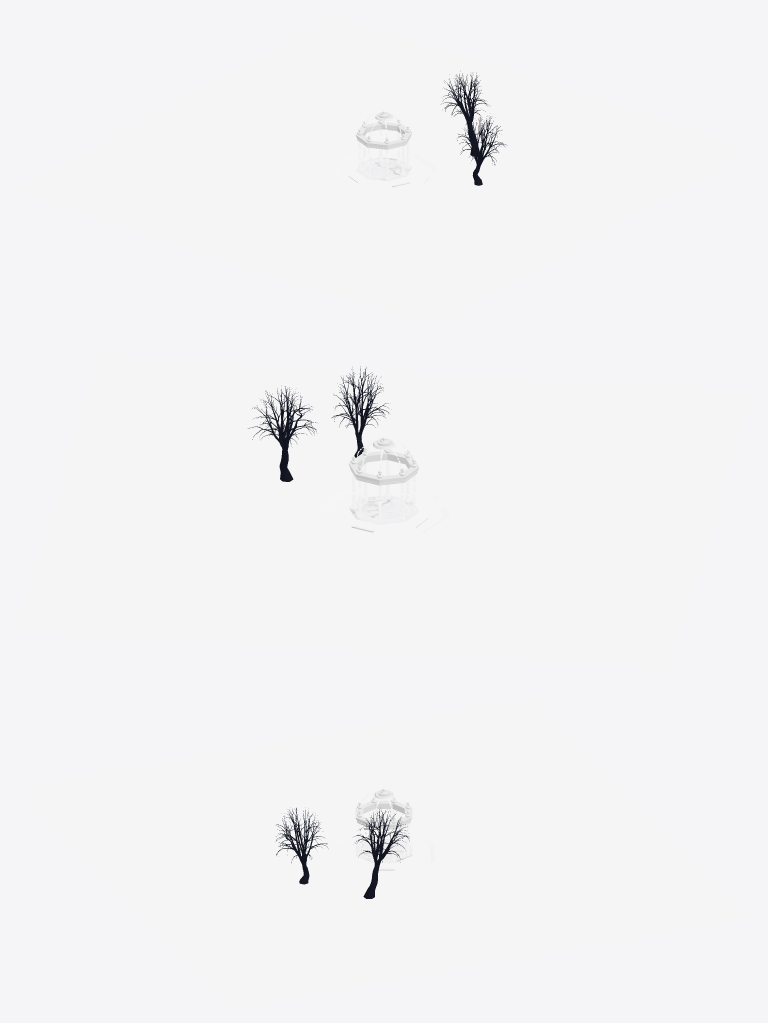
File: garden.glb
3 views of the same model, one above another, from view 1: azimuth 30°, elevation 25°; view 2: azimuth 150°, elevation 25°; view 3: azimuth 270°, elevation 25° (orthographic). The views are drawn at different scales.
Parts seen in each view (by area): view 1: 平面.005, 平面.002, tree.005, tree.003, 地基, 顶台, 柱子; view 2: 平面.005, 平面.002, tree.005, tree.003, 地基, 顶台, 柱子, 平面.007; view 3: 平面.005, 平面.002, tree.005, tree.003, 顶台, 地基, 平面.007.
Boxes of the visible parts, bbox=[...] form: 平面.005: bbox=[14, 14, 753, 326]; 平面.002: bbox=[331, 147, 435, 191]; tree.005: bbox=[442, 73, 489, 156]; tree.003: bbox=[457, 116, 505, 185]; 地基: bbox=[356, 157, 411, 180]; 顶台: bbox=[355, 122, 412, 149]; 柱子: bbox=[357, 129, 410, 179]; 平面.005: bbox=[14, 355, 753, 667]; 平面.002: bbox=[318, 482, 449, 537]; tree.005: bbox=[248, 386, 316, 481]; tree.003: bbox=[332, 366, 389, 457]; 地基: bbox=[349, 495, 418, 524]; 顶台: bbox=[348, 450, 419, 485]; 柱子: bbox=[351, 460, 416, 523]; 平面.007: bbox=[25, 493, 660, 667]; 平面.005: bbox=[14, 696, 753, 1008]; 平面.002: bbox=[342, 833, 425, 868]; tree.005: bbox=[354, 809, 409, 898]; tree.003: bbox=[276, 808, 327, 884]; 顶台: bbox=[355, 800, 412, 829]; 地基: bbox=[355, 839, 412, 862]; 平面.007: bbox=[335, 843, 431, 874].
Size of the model in its own units: 32.57 by 6.36 by 32.57.
17 materials, 3 textured.
